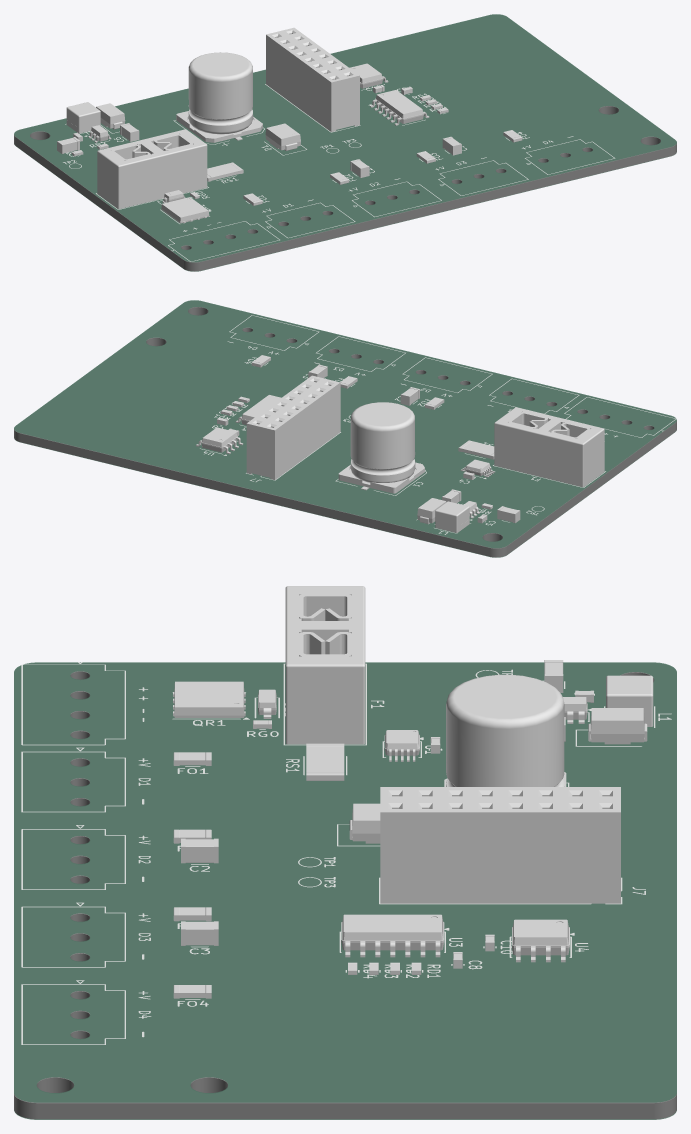
Rendered from AP1_Pixel.glb.
3 renders of one model, top to bottom at view 1: azimuth 30°, elevation 25°; view 2: azimuth 150°, elevation 25°; view 3: azimuth 270°, elevation 25°, orthographic. The views are drawn at different scales.
Parts seen in each view (by area): view 1: =>[0:1:1:23], =>[0:1:1:21], F1, J7, C1, =>[0:1:1:19], U3, L1, QR1, D1, =>[0:1:1:22], U4 (+2 smaller); view 2: =>[0:1:1:23], =>[0:1:1:21], F1, J7, C1, =>[0:1:1:19], L1, U4, =>[0:1:1:22], U3, D7, RS1; view 3: =>[0:1:1:23], =>[0:1:1:21], J7, F1, C1, =>[0:1:1:19], U3, QR1, U4, D7, L1, RS1 (+4 smaller).
Part boxes in pixels (<box>): =>[0:1:1:23]: <box>14,15,676,271</box>; =>[0:1:1:21]: <box>14,14,676,262</box>; F1: <box>97,129,207,208</box>; J7: <box>266,27,359,131</box>; C1: <box>176,52,262,142</box>; =>[0:1:1:19]: <box>63,84,615,261</box>; U3: <box>370,90,429,125</box>; L1: <box>66,102,100,133</box>; QR1: <box>161,197,209,223</box>; D1: <box>265,123,300,150</box>; =>[0:1:1:22]: <box>14,144,676,271</box>; U4: <box>349,63,388,88</box>; =>[0:1:1:23]: <box>14,301,676,557</box>; =>[0:1:1:21]: <box>14,300,676,548</box>; F1: <box>494,407,604,486</box>; J7: <box>246,375,340,479</box>; C1: <box>338,402,424,493</box>; =>[0:1:1:19]: <box>200,315,676,534</box>; L1: <box>435,501,469,532</box>; U4: <box>196,427,243,454</box>; =>[0:1:1:22]: <box>14,430,676,557</box>; U3: <box>235,395,281,425</box>; D7: <box>417,498,446,524</box>; RS1: <box>458,440,494,459</box>; =>[0:1:1:23]: <box>14,663,676,1119</box>; =>[0:1:1:21]: <box>14,662,676,1102</box>; J7: <box>380,787,620,903</box>; F1: <box>285,586,365,744</box>; C1: <box>444,674,566,786</box>; =>[0:1:1:19]: <box>21,662,671,1044</box>; U3: <box>341,914,444,957</box>; QR1: <box>173,681,245,717</box>; U4: <box>512,919,569,962</box>; D7: <box>588,708,647,744</box>; L1: <box>606,675,653,726</box>; RS1: <box>306,743,344,780</box>.
Bounding box in the file's own units: 0.088 × 0.0136 × 0.056.
